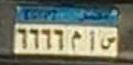6: (17, 28, 29, 49), (54, 29, 65, 50), (30, 28, 40, 49), (42, 29, 52, 49)
alif: (88, 30, 96, 50)
meem: (70, 31, 83, 50)
seen: (99, 35, 117, 50)
